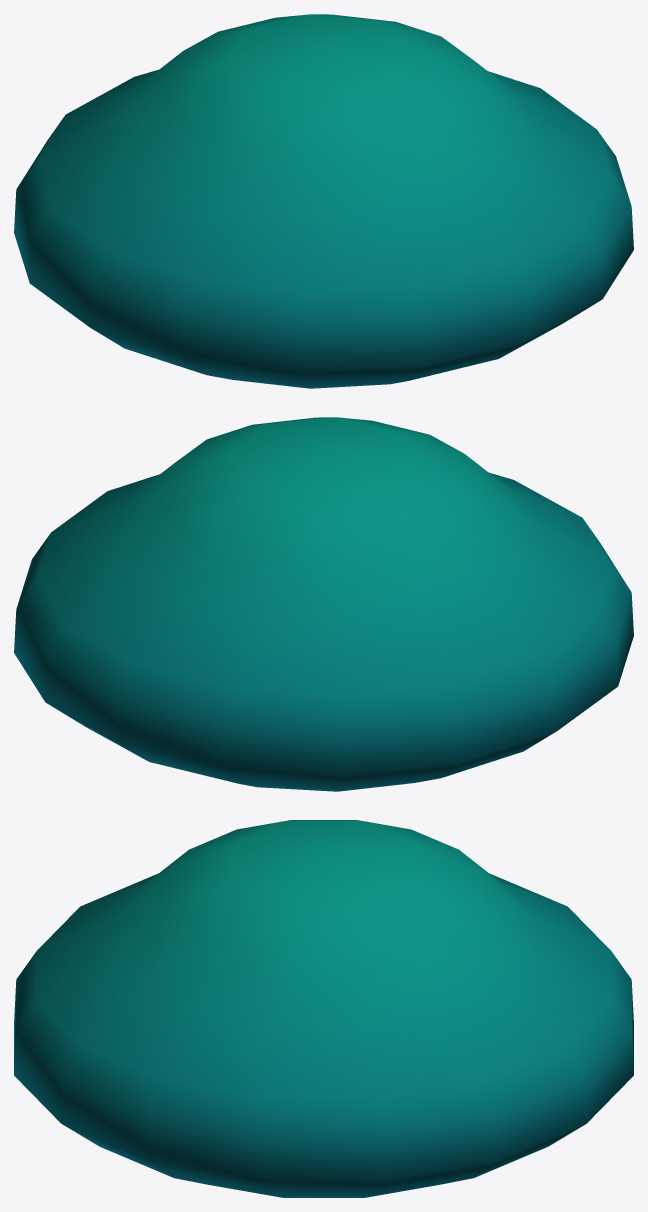
File: Bush_3_B_Color4.fbx
The picture shows the model from 3 angles, top to bottom: view 1: azimuth 30°, elevation 25°; view 2: azimuth 150°, elevation 25°; view 3: azimuth 270°, elevation 25°; orthographic projection.
Parts seen in each view (by area): view 1: Bush_3_B_Color4; view 2: Bush_3_B_Color4; view 3: Bush_3_B_Color4.
Part boxes in pixels (left/top/right/bottom): Bush_3_B_Color4: left=14, top=14, right=633, bottom=388; Bush_3_B_Color4: left=14, top=417, right=633, bottom=791; Bush_3_B_Color4: left=14, top=820, right=633, bottom=1197.
Bounding box in the file's own units: 1.68 × 0.8035 × 1.68.
